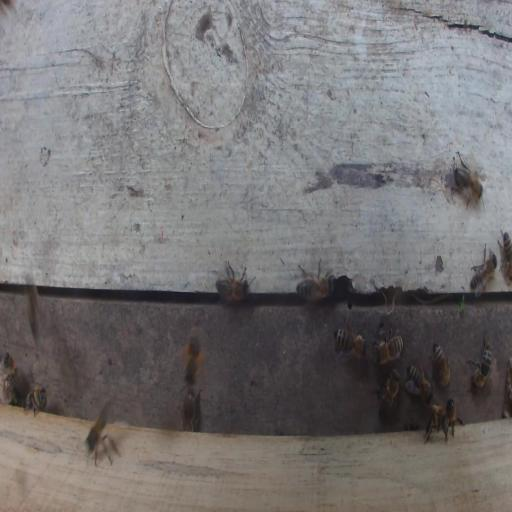nonpollenbee: (85, 398, 123, 467), (333, 313, 369, 365), (469, 241, 498, 299), (465, 330, 493, 390), (371, 368, 402, 418), (294, 271, 334, 309), (373, 321, 405, 366), (453, 161, 484, 207), (213, 272, 251, 308), (406, 361, 435, 406), (178, 386, 203, 436), (422, 403, 450, 444), (429, 342, 451, 390), (3, 351, 27, 393), (23, 385, 48, 418), (496, 228, 511, 282), (445, 399, 463, 438)
pollenbee: (183, 322, 205, 385)
